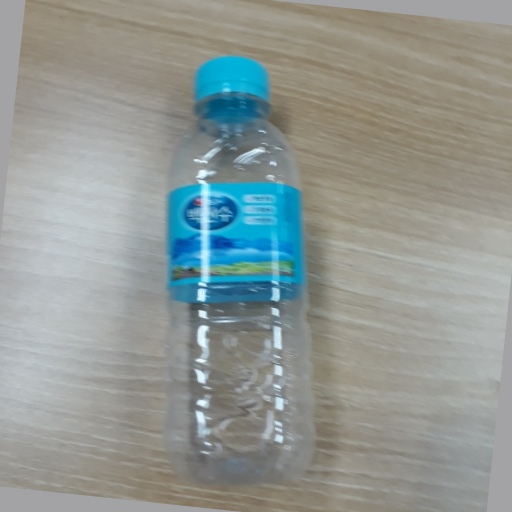Plastic_0: (167, 56, 319, 484)
